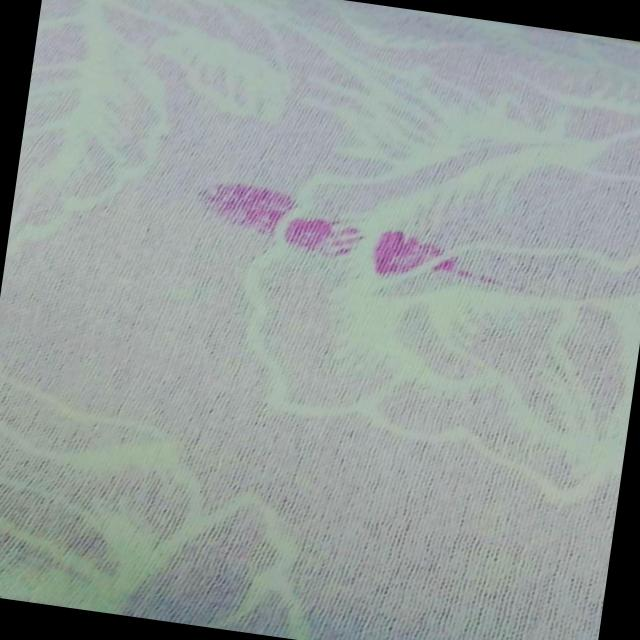stain: (175, 166, 534, 304)
